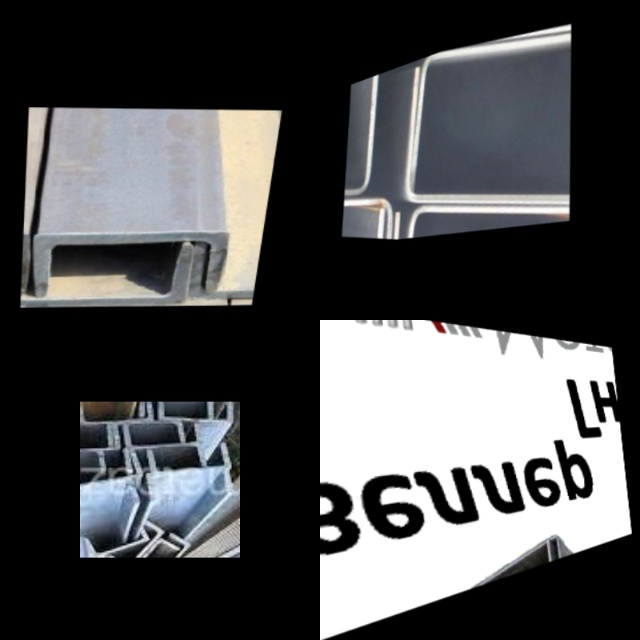Shveller: (409, 17, 572, 220), (413, 9, 572, 207), (38, 234, 227, 293), (21, 246, 189, 302), (397, 191, 570, 240), (407, 191, 570, 238), (444, 534, 562, 597), (432, 540, 552, 601), (344, 75, 378, 200), (342, 195, 393, 244), (148, 471, 229, 499), (80, 480, 136, 515), (149, 446, 229, 470), (111, 523, 163, 558), (127, 446, 204, 469), (80, 455, 141, 484), (87, 530, 148, 556), (116, 422, 182, 445), (342, 206, 383, 243), (81, 402, 151, 422), (125, 425, 198, 444), (161, 402, 232, 421), (142, 535, 190, 558), (143, 402, 211, 415), (131, 540, 178, 558), (80, 425, 111, 447)
